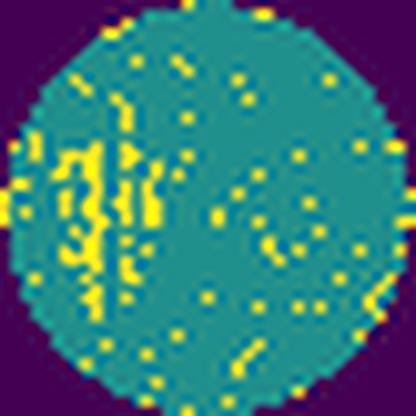Loc: (59, 141, 112, 324), (118, 136, 164, 232)
